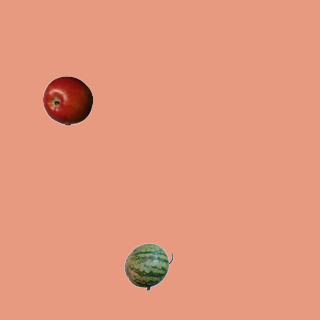Apple Braeburn: (42, 75, 92, 125)
Watermelon: (123, 241, 173, 291)
